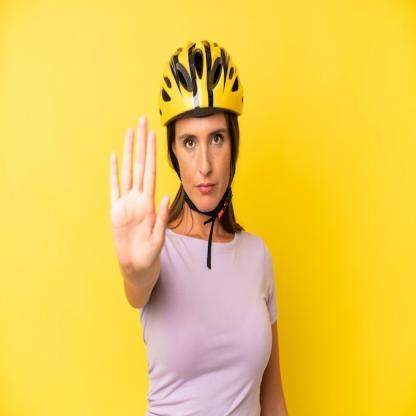stop: (107, 113, 172, 279)
